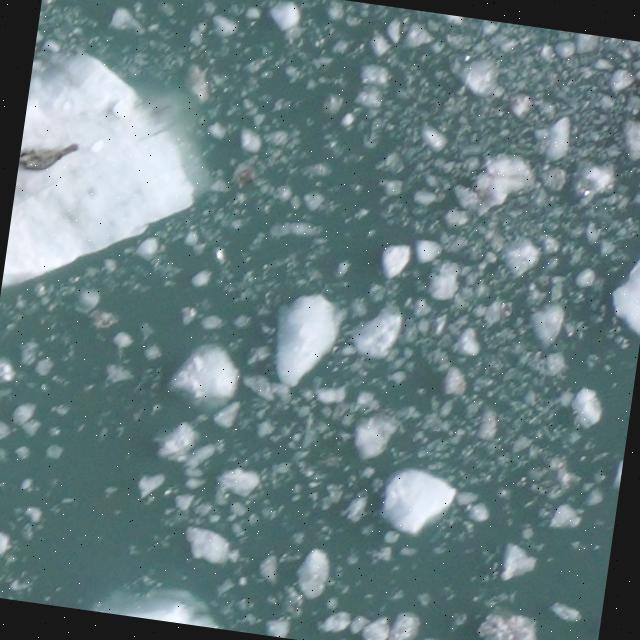seal: (18, 132, 83, 181)
